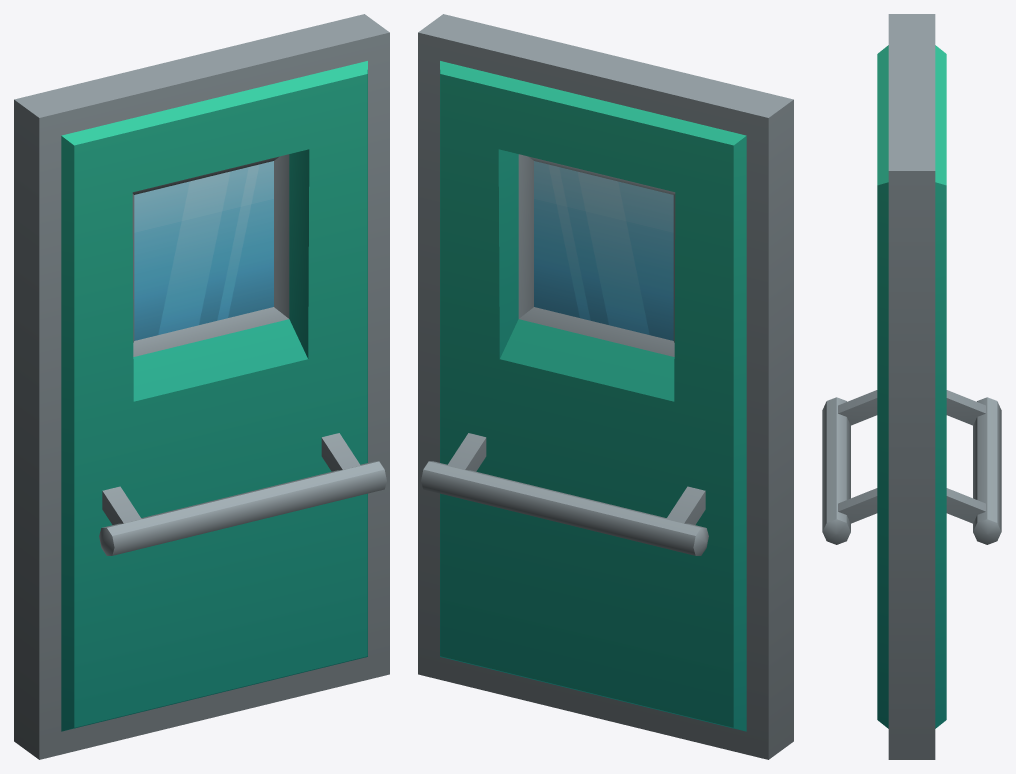
File: door_A.obj
3 renders of one model, left to right at view 1: azimuth 30°, elevation 25°; view 2: azimuth 150°, elevation 25°; view 3: azimuth 270°, elevation 25°, orthographic. The views are drawn at different scales.
Visible parts, largest first — view 1: door_A_Cube.260; view 2: door_A_Cube.260; view 3: door_A_Cube.260.
Part boxes in pixels (x1,y1,x2,y2): door_A_Cube.260: (14,14,389,759); door_A_Cube.260: (418,14,793,759); door_A_Cube.260: (822,14,1001,759).
Size of the model in its own units: 1.6 by 2.8 by 0.7714.
1 material, 1 textured.
